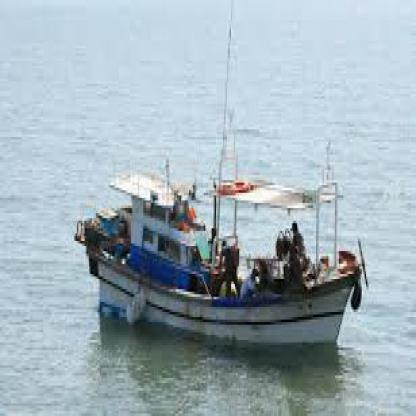fish-b: (69, 96, 374, 358)
